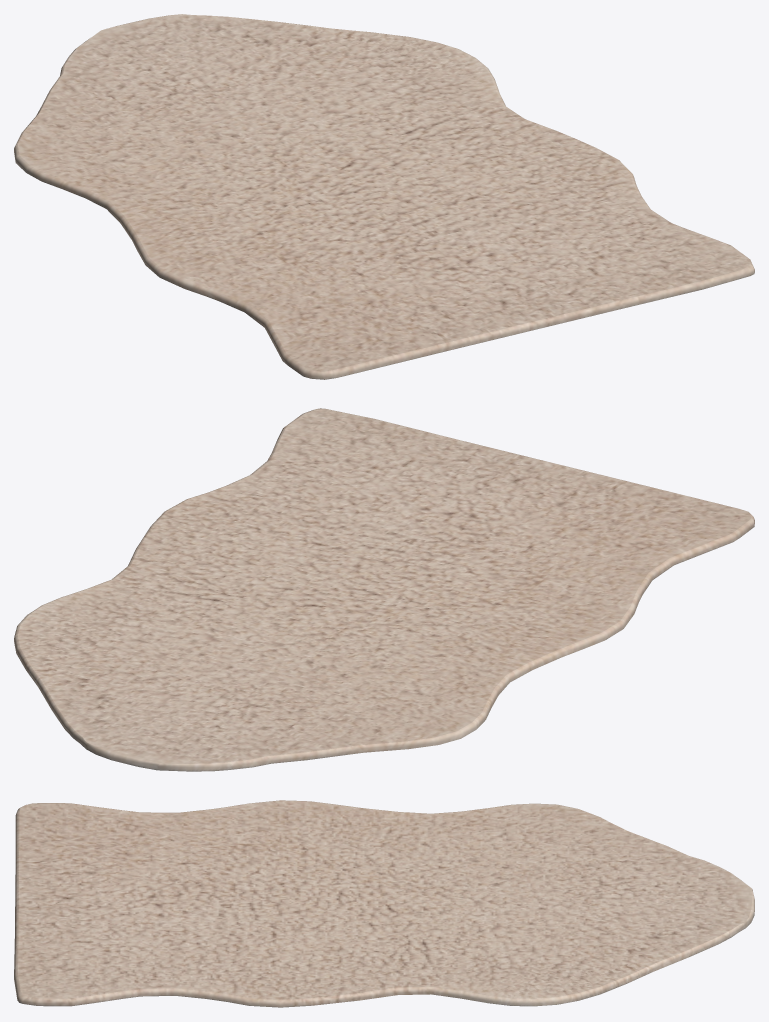
Rendered from 03 - SVINDINGE Rug - beige 55x85 cm.glb.
3 views of the same model, one above another, from view 1: azimuth 30°, elevation 25°; view 2: azimuth 150°, elevation 25°; view 3: azimuth 270°, elevation 25° (orthographic). The views are drawn at different scales.
Parts seen in each view (by area): view 1: 70532123_rug:1; view 2: 70532123_rug:1; view 3: 70532123_rug:1.
Part boxes in pixels (x1,y1,x2,y2): 70532123_rug:1: [14, 14, 754, 379]; 70532123_rug:1: [14, 408, 754, 771]; 70532123_rug:1: [14, 800, 754, 1007].
Bounding box in the file's own units: 0.55 × 0.00763 × 0.85.
Materials: 1 (1 with a texture image).
